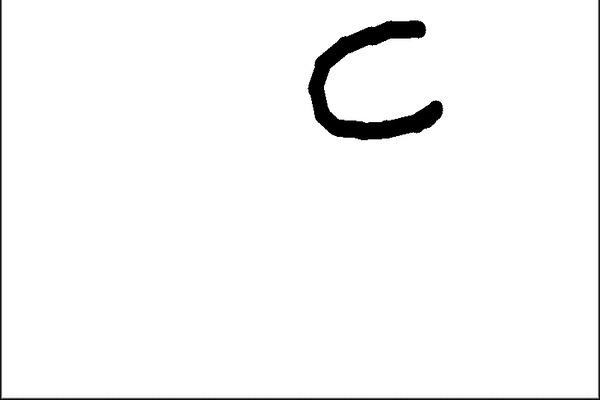C: (305, 14, 448, 141)
